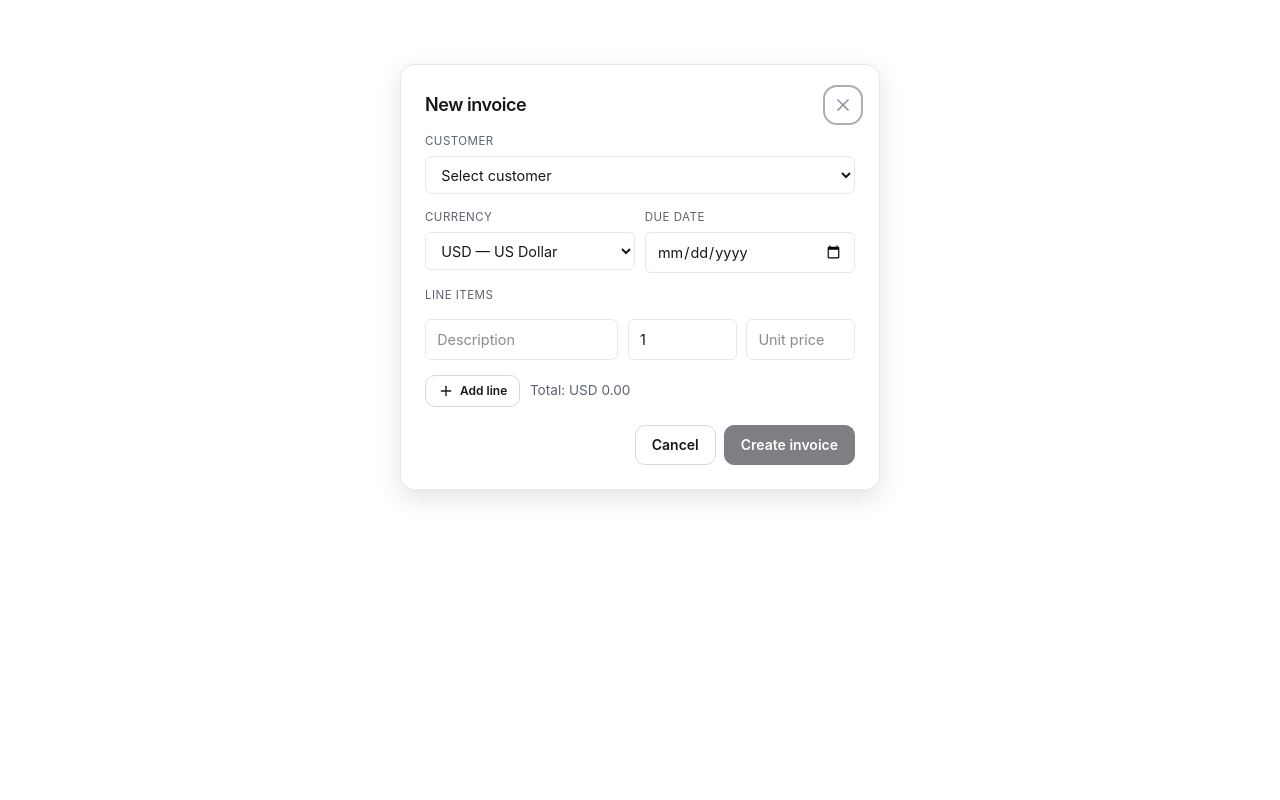
Test case: InvoiceCreateModal › blocks submit and shows a validation error for an invalid unit price
Select "Acme (cust_1)" in the dropdown labelled "Customer" at coordinates (640, 175), box [425,156,855,194]
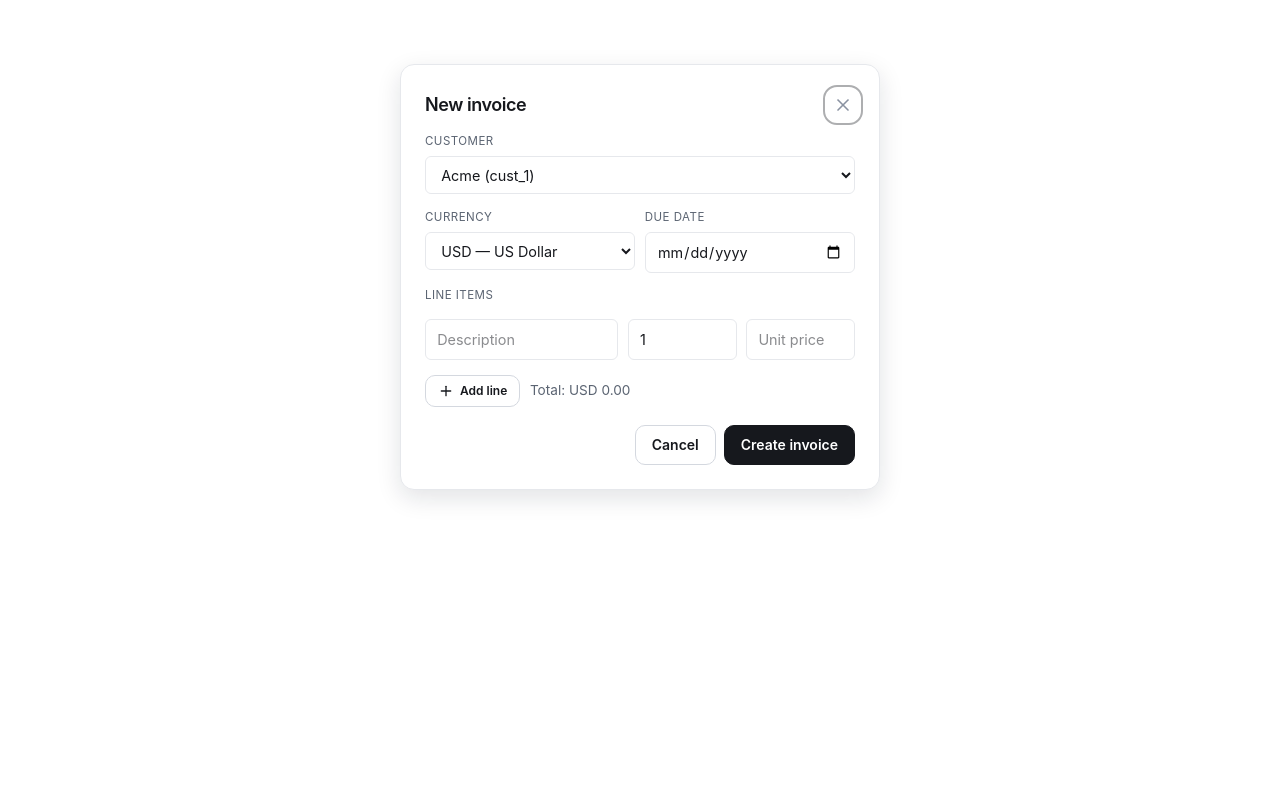
Type "2026-08-01" into the date field labelled "Due date" at coordinates (750, 252), box [645,232,855,273]
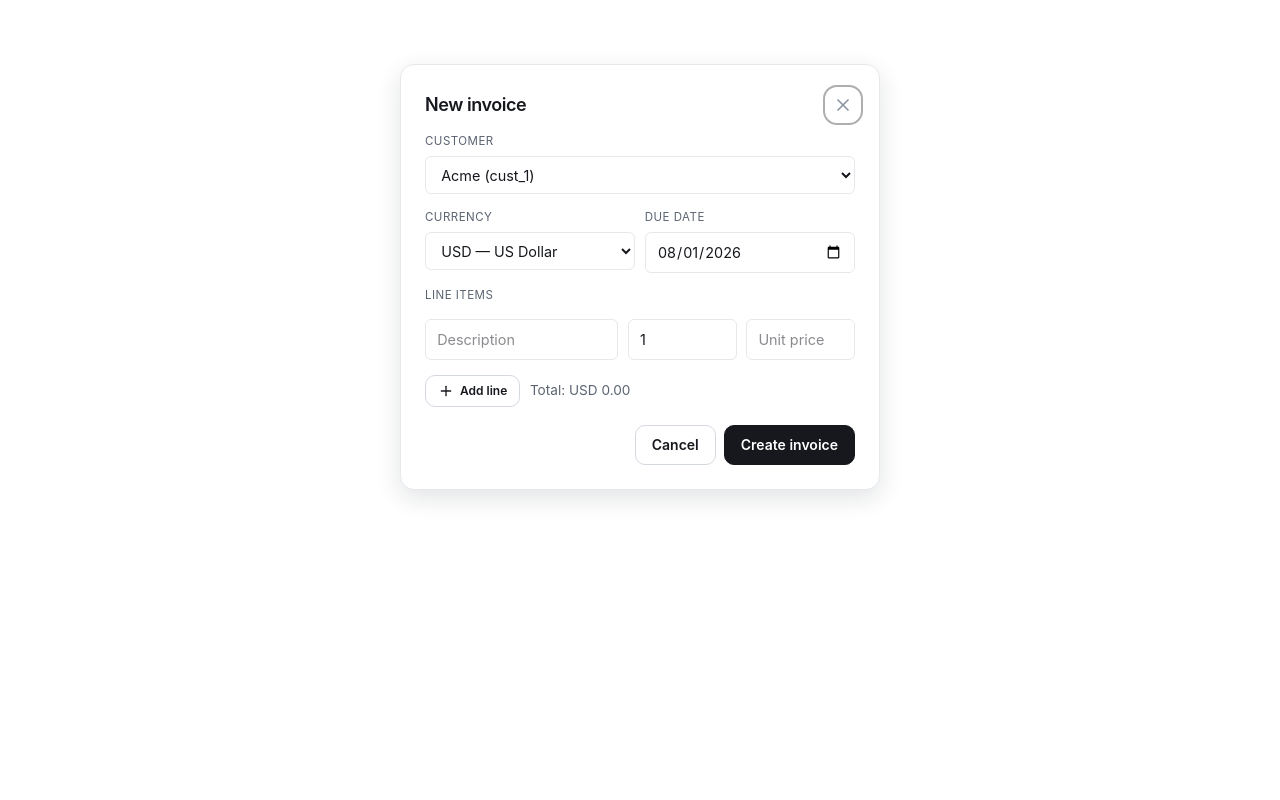
Type "X" into the field with placeholder "Description" at coordinates (522, 340), box [425,319,618,360]
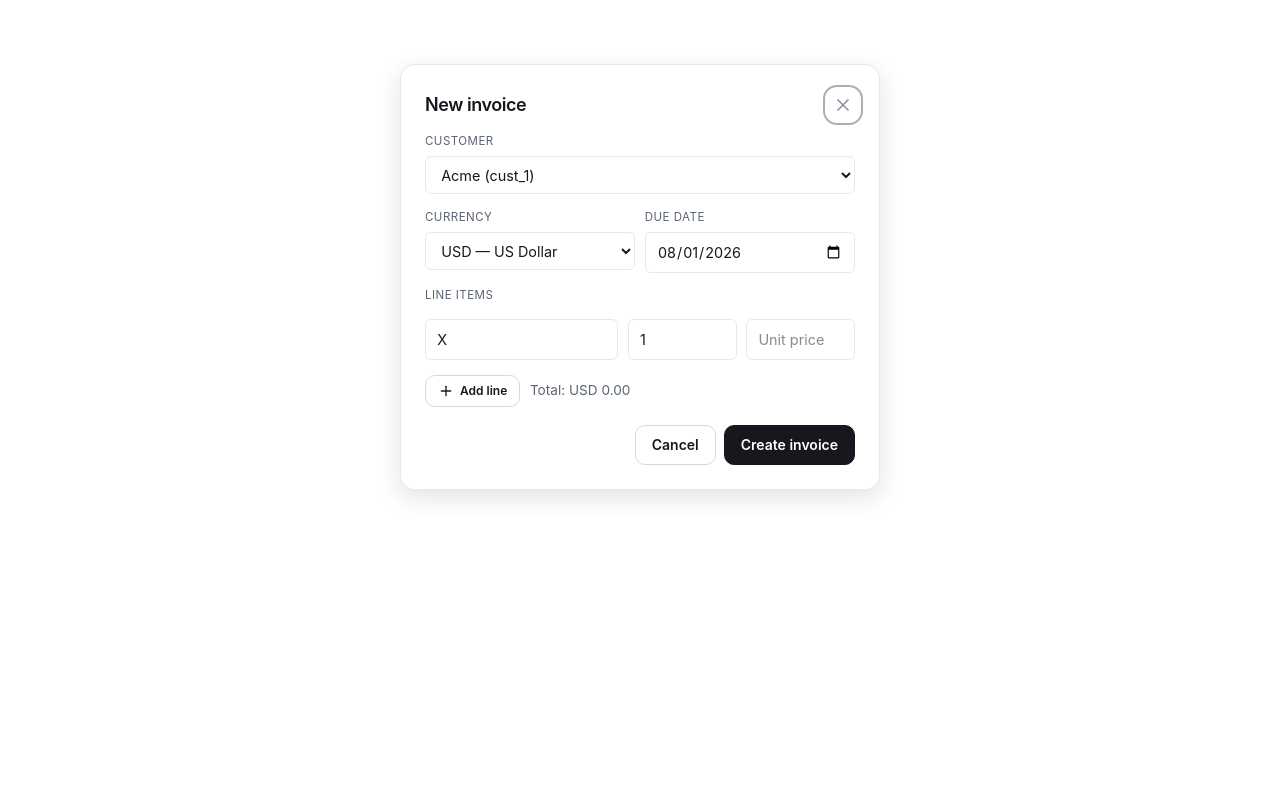
Type "abc" into the field with placeholder "Unit price" at coordinates (801, 340), box [746,319,855,360]
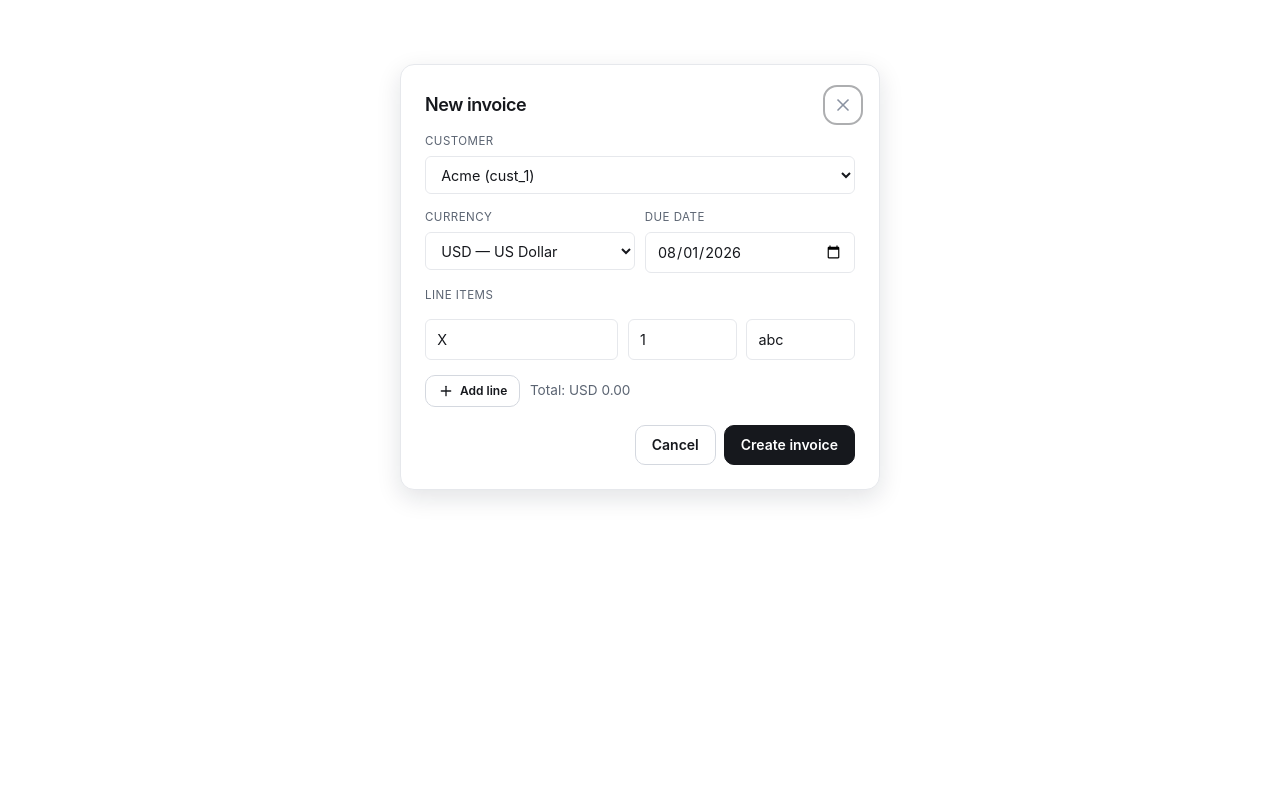
Click the button "Create invoice" at coordinates (789, 445), box [724,425,855,465]
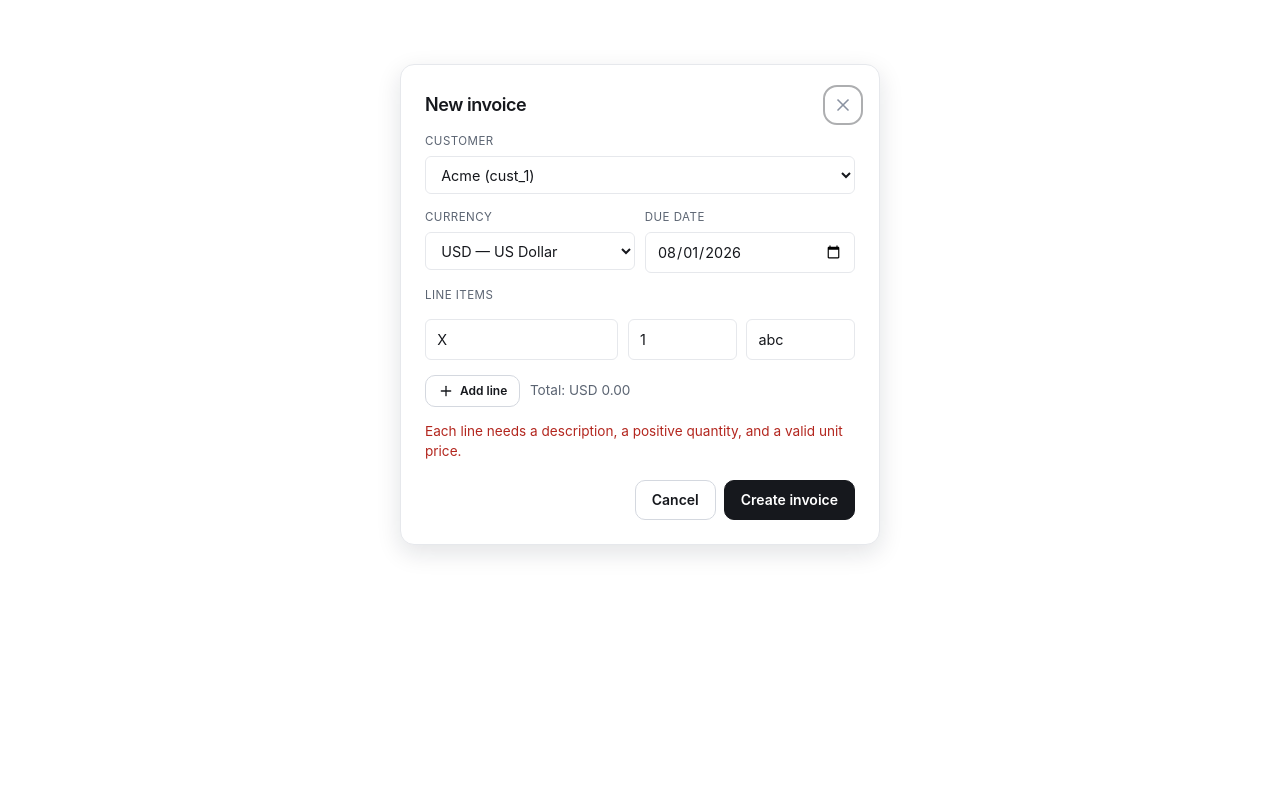
Expected: the text "Each line needs a description, a positive quantity" is shown, [425,423,843,459]
